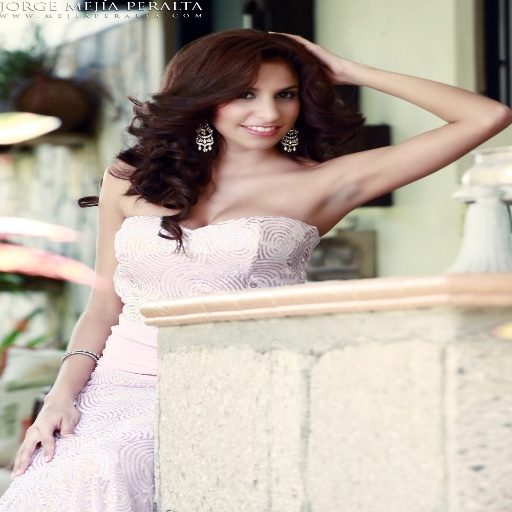hand: (18, 351, 100, 468), (267, 31, 351, 84)
